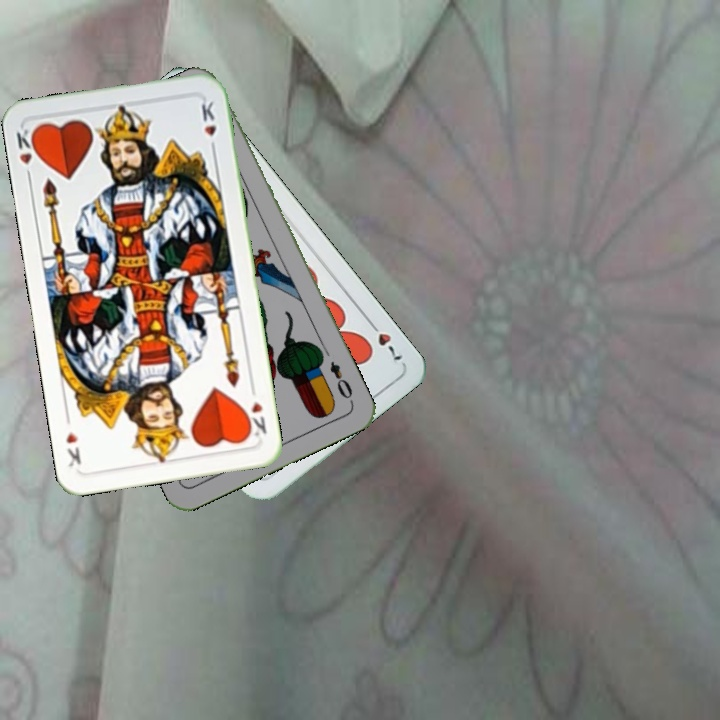EO: (326, 357, 356, 406)
H7: (363, 315, 406, 366)
HK: (12, 123, 42, 184), (241, 382, 269, 441)
